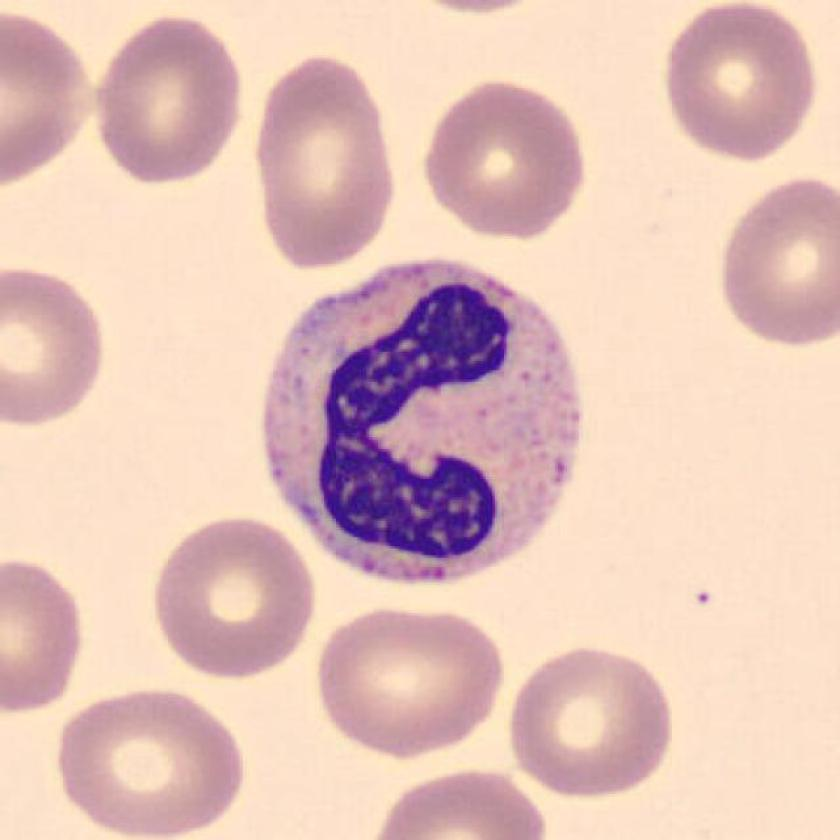neutrophil: (264, 264, 579, 583)
